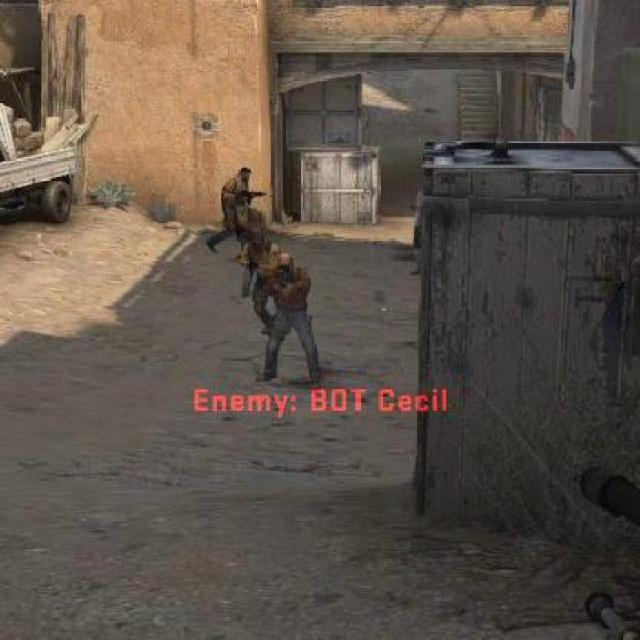T: (264, 252, 318, 388), (204, 164, 256, 238), (244, 227, 278, 316), (232, 200, 262, 231)
T_HEAD: (248, 224, 272, 250), (277, 252, 297, 274), (234, 198, 249, 216), (237, 163, 251, 180)
